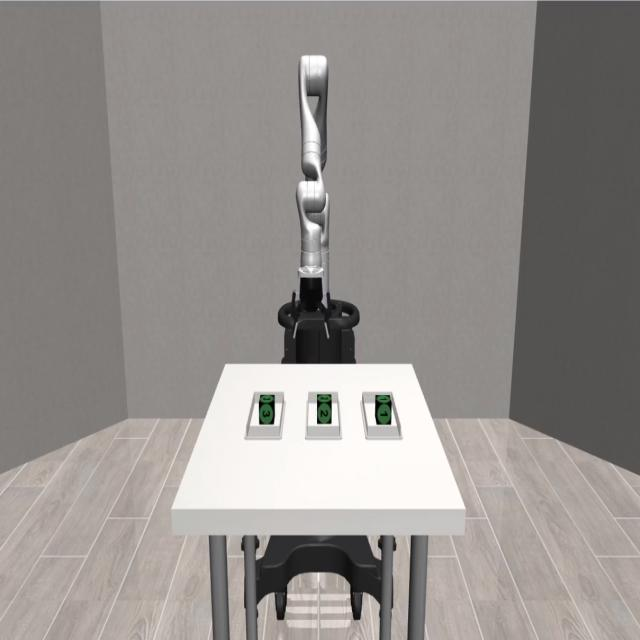cube1: (376, 394, 391, 426)
cube2: (316, 395, 334, 427)
cube3: (259, 394, 276, 423)
